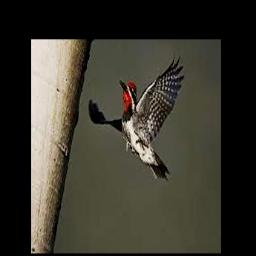Woodpecker: (89, 54, 185, 181)
